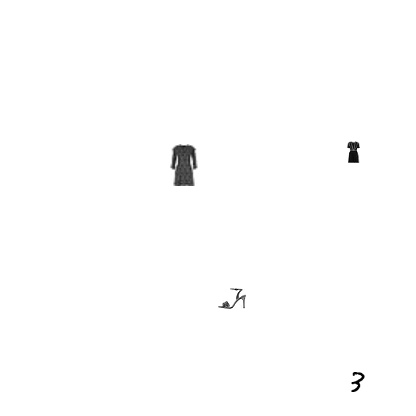3: (343, 367, 371, 395)
Dress: (163, 144, 205, 186), (342, 141, 364, 163)
Sandal: (218, 284, 246, 312)
